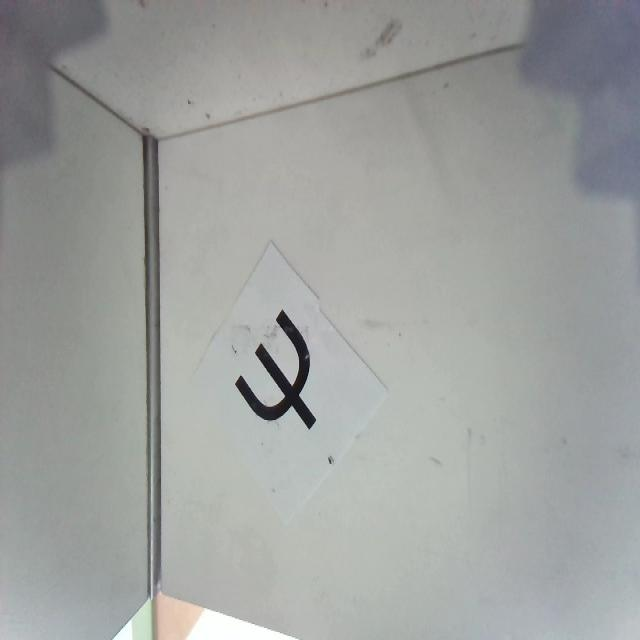nedoF: (234, 308, 317, 433)
